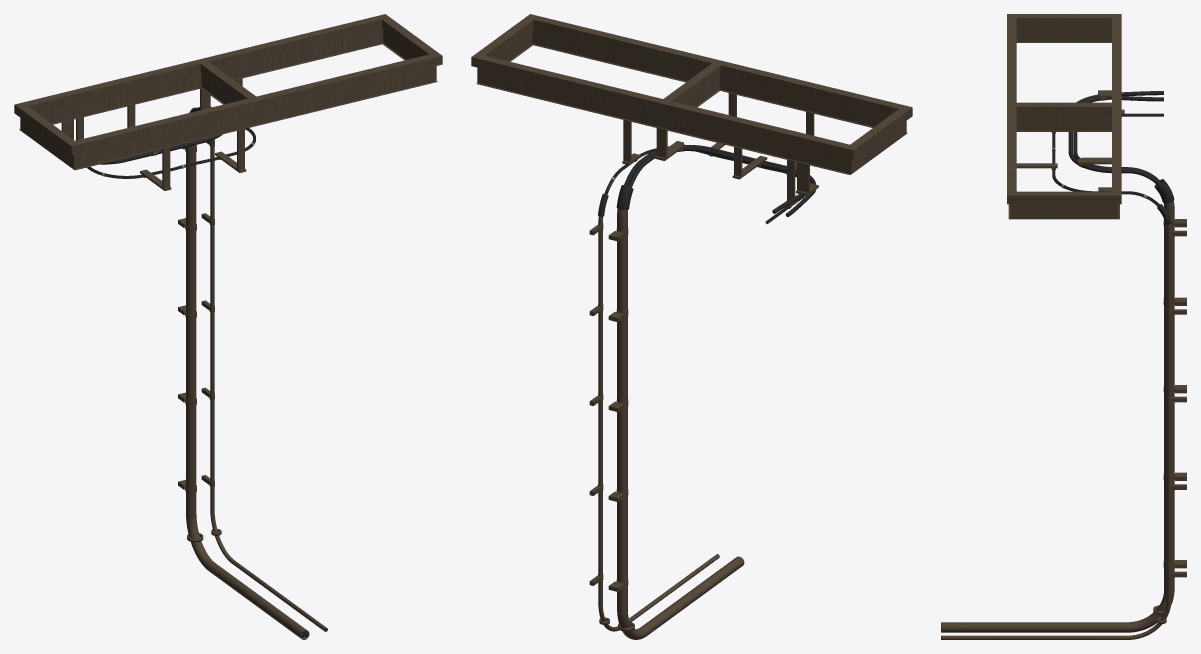
The model's file is supported-transition.glb.
3 renders of one model, left to right at view 1: azimuth 30°, elevation 25°; view 2: azimuth 150°, elevation 25°; view 3: azimuth 270°, elevation 25°, orthographic. The views are drawn at different scales.
Visible parts, largest first — view 1: steel_frame, steel_pipe, steel_clamps, jacket; view 2: steel_frame, steel_pipe, steel_clamps, jacket; view 3: steel_frame, steel_pipe, jacket, steel_clamps.
Boxes of the visible parts, x1=… form: steel_frame: x1=14, y1=14, x2=442, y2=170; steel_pipe: x1=186, y1=108, x2=327, y2=639; steel_clamps: x1=61, y1=63, x2=246, y2=493; jacket: x1=87, y1=107, x2=327, y2=637; steel_frame: x1=471, y1=14, x2=912, y2=174; steel_pipe: x1=598, y1=208, x2=744, y2=639; steel_clamps: x1=589, y1=77, x2=818, y2=591; jacket: x1=598, y1=145, x2=816, y2=223; steel_frame: x1=1007, y1=14, x2=1121, y2=219; steel_pipe: x1=941, y1=186, x2=1174, y2=639; jacket: x1=1052, y1=91, x2=1174, y2=224; steel_clamps: x1=1016, y1=90, x2=1186, y2=578.
Size of the model in its own units: 2.46 by 3.28 by 1.4.
5 materials, 3 textured.
